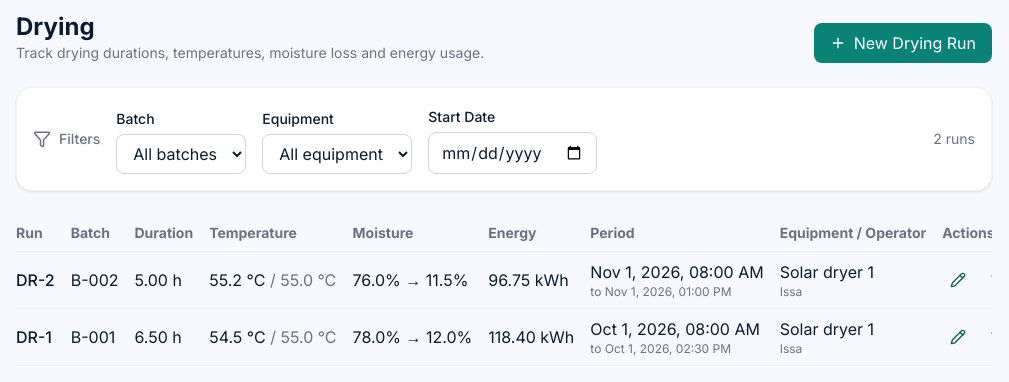
it: DryingRunList › filters by batch and start date
Expected: the text "DR-1" is shown, [16, 308, 71, 366]
Select "B-002" in the dropdown named "Filter by batch" at (181, 154), box [116, 134, 246, 174]
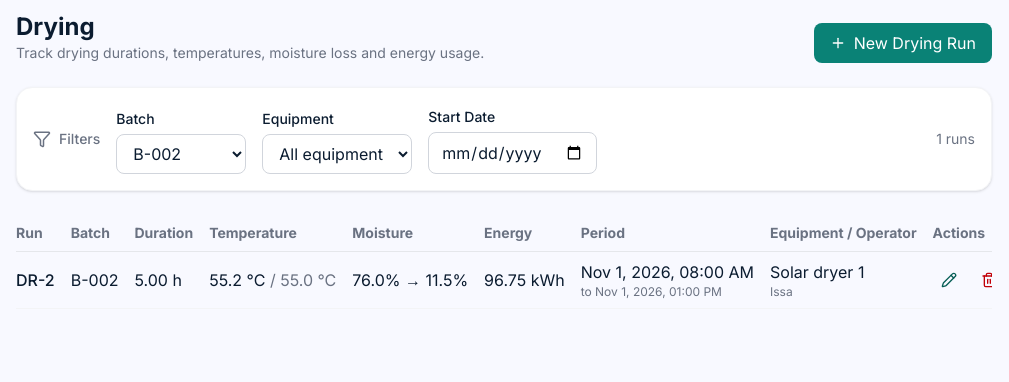
Expected: the text "DR-2" is shown, [16, 252, 71, 308]
Expected: the text "DR-1" is gone
Select "All batches" in the dropdown named "Filter by batch" at (181, 154), box [116, 134, 246, 174]
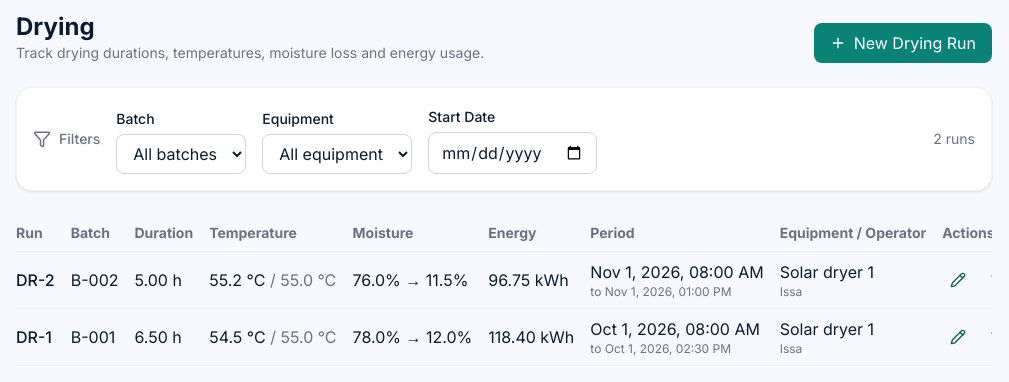
Type "2026-10-01" into the date field named "Filter by start date" at (513, 153), box [428, 132, 597, 174]
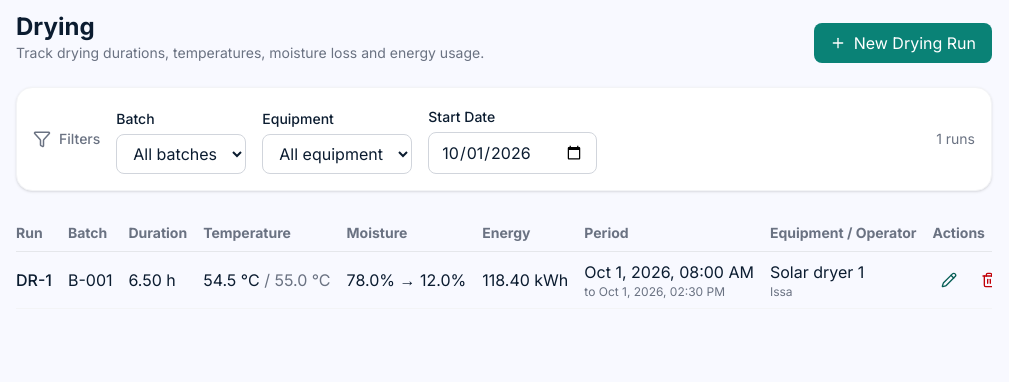
Expected: the text "DR-1" is shown, [16, 252, 68, 308]
Expected: the text "DR-2" is gone
